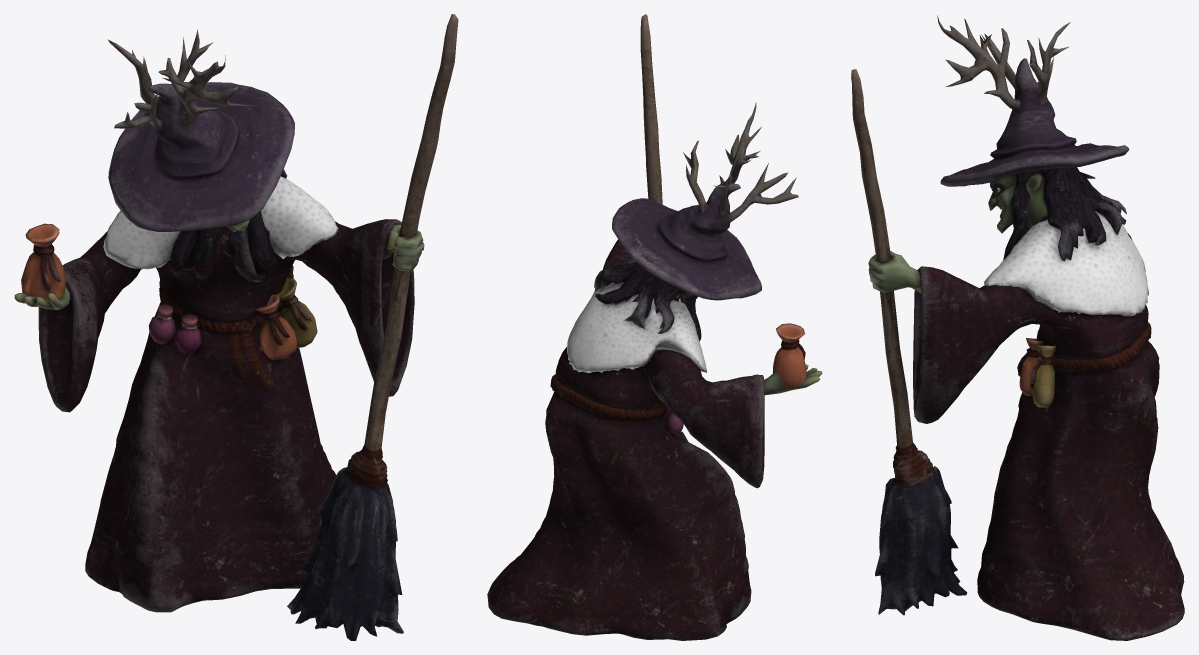
File: MZ4250 - Barovian Witch.glb
3 renders of one model, left to right at view 1: azimuth 30°, elevation 25°; view 2: azimuth 150°, elevation 25°; view 3: azimuth 270°, elevation 25°, orthographic. The views are drawn at different scales.
Visible parts, largest first — view 1: BarovianWitch; view 2: BarovianWitch; view 3: BarovianWitch.
Part boxes in pixels (x1,y1,x2,y2): BarovianWitch: (14, 14, 458, 640); BarovianWitch: (487, 14, 822, 640); BarovianWitch: (851, 15, 1184, 640).
Bounding box in the file's own units: 0.7877 × 1.25 × 0.6756.
Materials: 1 (1 with a texture image).
